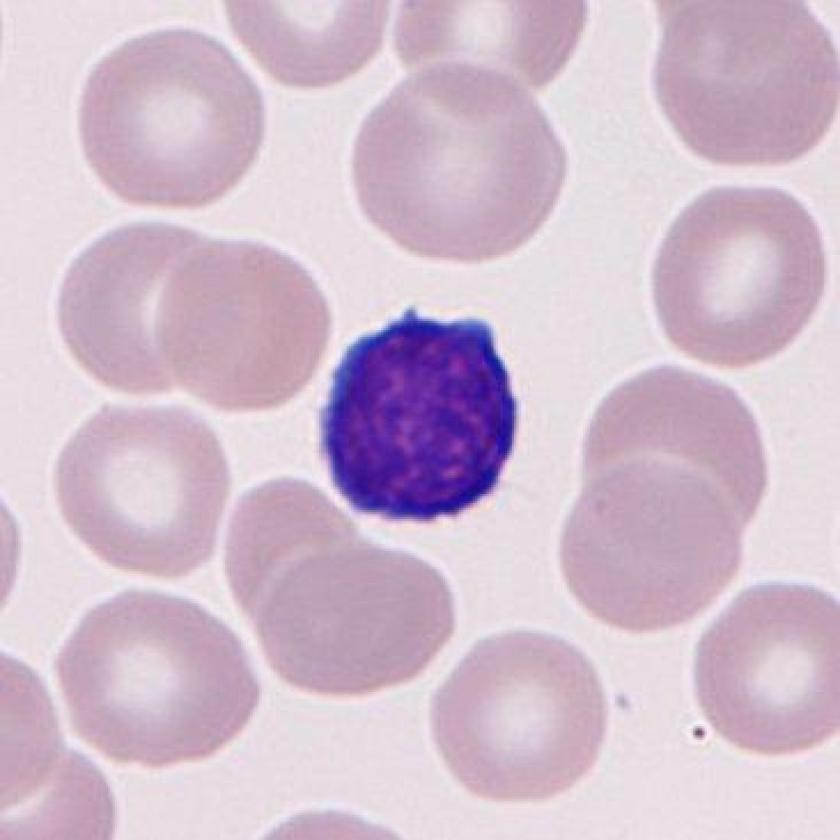lymphocyte: (304, 299, 536, 543)
